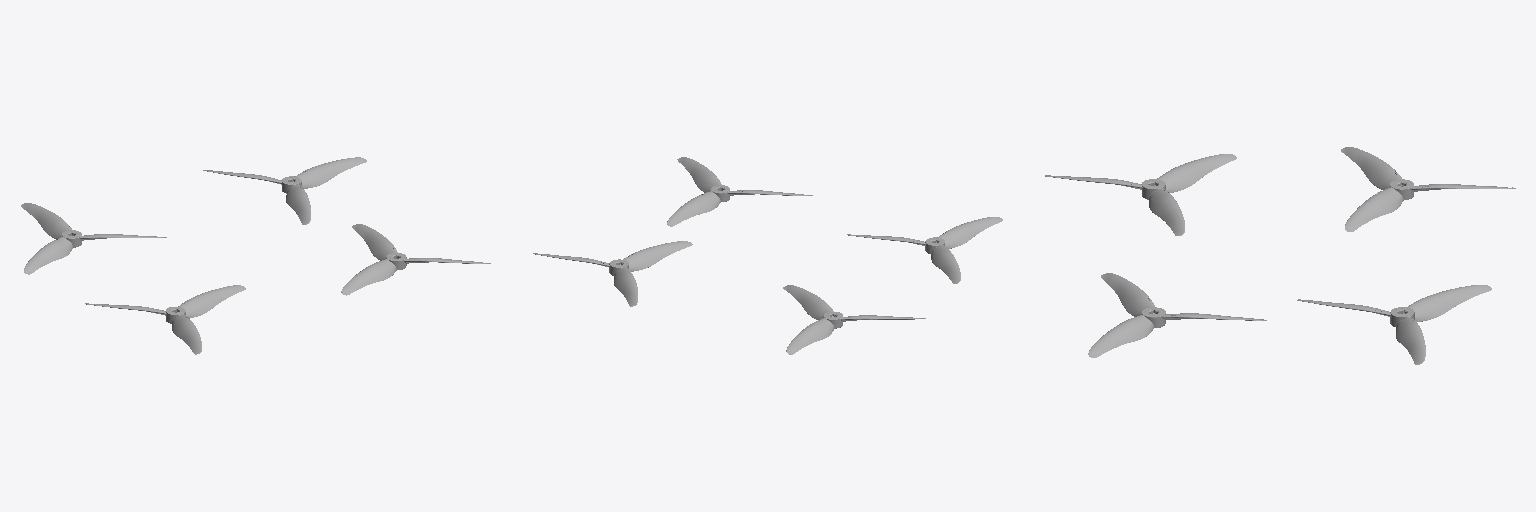
The robot description file, URDF, robot "Drone_assembly":
<?xml version="1.0" ?>
<!-- =================================================================================== -->
<!-- |    Fixed URDF for Isaac Sim / IsaacLab compatibility                             | -->
<!-- |    Changes: package:// paths -> relative, hyphens -> underscores,                | -->
<!-- |             spaces in names -> underscores                                       | -->
<!-- =================================================================================== -->
<robot name="Drone_assembly">
  <material name="silver">
    <color rgba="0.700 0.700 0.700 1.000"/>
  </material>
  <transmission name="Revolute_15_tran">
    <type>transmission_interface/SimpleTransmission</type>
    <joint name="Revolute_15">
      <hardwareInterface>hardware_interface/EffortJointInterface</hardwareInterface>
    </joint>
    <actuator name="Revolute_15_actr">
      <hardwareInterface>hardware_interface/EffortJointInterface</hardwareInterface>
      <mechanicalReduction>1</mechanicalReduction>
    </actuator>
  </transmission>
  <transmission name="Revolute_16_tran">
    <type>transmission_interface/SimpleTransmission</type>
    <joint name="Revolute_16">
      <hardwareInterface>hardware_interface/EffortJointInterface</hardwareInterface>
    </joint>
    <actuator name="Revolute_16_actr">
      <hardwareInterface>hardware_interface/EffortJointInterface</hardwareInterface>
      <mechanicalReduction>1</mechanicalReduction>
    </actuator>
  </transmission>
  <transmission name="Revolute_17_tran">
    <type>transmission_interface/SimpleTransmission</type>
    <joint name="Revolute_17">
      <hardwareInterface>hardware_interface/EffortJointInterface</hardwareInterface>
    </joint>
    <actuator name="Revolute_17_actr">
      <hardwareInterface>hardware_interface/EffortJointInterface</hardwareInterface>
      <mechanicalReduction>1</mechanicalReduction>
    </actuator>
  </transmission>
  <transmission name="Revolute_18_tran">
    <type>transmission_interface/SimpleTransmission</type>
    <joint name="Revolute_18">
      <hardwareInterface>hardware_interface/EffortJointInterface</hardwareInterface>
    </joint>
    <actuator name="Revolute_18_actr">
      <hardwareInterface>hardware_interface/EffortJointInterface</hardwareInterface>
      <mechanicalReduction>1</mechanicalReduction>
    </actuator>
  </transmission>
  <gazebo>
    <plugin filename="libgazebo_ros_control.so" name="control"/>
  </gazebo>
  <gazebo reference="base_link">
    <material>Gazebo/Silver</material>
    <mu1>0.2</mu1>
    <mu2>0.2</mu2>
    <selfCollide>true</selfCollide>
    <gravity>true</gravity>
  </gazebo>
  <gazebo reference="FL_5_inch_CW_prop_1_1_1">
    <material>Gazebo/Silver</material>
    <mu1>0.2</mu1>
    <mu2>0.2</mu2>
    <selfCollide>true</selfCollide>
  </gazebo>
  <gazebo reference="FR_5_inch_CCW_prop_1_1_1">
    <material>Gazebo/Silver</material>
    <mu1>0.2</mu1>
    <mu2>0.2</mu2>
    <selfCollide>true</selfCollide>
  </gazebo>
  <gazebo reference="BL_5_inch_CCW_prop_1_1_1">
    <material>Gazebo/Silver</material>
    <mu1>0.2</mu1>
    <mu2>0.2</mu2>
    <selfCollide>true</selfCollide>
  </gazebo>
  <gazebo reference="BR_5_inch_CW_prop_1_1_1">
    <material>Gazebo/Silver</material>
    <mu1>0.2</mu1>
    <mu2>0.2</mu2>
    <selfCollide>true</selfCollide>
  </gazebo>
  <link name="base_link">
    <inertial>
      <origin rpy="0 0 0" xyz="0.009238554223594299 0.0031720304092431296 0.024879380984984652"/>
      <mass value="0.4418038695669927"/>
      <inertia ixx="0.001021" ixy="3e-06" ixz="-0.000104" iyy="0.001544" iyz="-1e-05" izz="0.001377"/>
    </inertial>
    <visual>
      <origin rpy="0 0 0" xyz="0 0 0"/>
      <geometry>
        <mesh filename="meshes/base_link.stl" scale="0.001 0.001 0.001"/>
      </geometry>
      <material name="silver"/>
    </visual>
    <collision>
      <origin rpy="0 0 0" xyz="0 0 0"/>
      <geometry>
        <mesh filename="meshes/base_link.stl" scale="0.001 0.001 0.001"/>
      </geometry>
    </collision>
  </link>
  <link name="FL_5_inch_CW_prop_1_1_1">
    <inertial>
      <origin rpy="0 0 0" xyz="-4.954987216920781e-07 1.1728228729718237e-06 0.0049229474950758245"/>
      <mass value="0.0034727457217575432"/>
      <inertia ixx="1e-06" ixy="-0.0" ixz="0.0" iyy="1e-06" iyz="-0.0" izz="2e-06"/>
    </inertial>
    <visual>
      <origin rpy="0 0 0" xyz="-0.088628 0.068017 -0.040514"/>
      <geometry>
        <mesh filename="meshes/FL_5_inch_CW_prop_1_1_1.stl" scale="0.001 0.001 0.001"/>
      </geometry>
      <material name="silver"/>
    </visual>
    <collision>
      <origin rpy="0 0 0" xyz="-0.088628 0.068017 -0.040514"/>
      <geometry>
        <mesh filename="meshes/FL_5_inch_CW_prop_1_1_1.stl" scale="0.001 0.001 0.001"/>
      </geometry>
    </collision>
  </link>
  <link name="FR_5_inch_CCW_prop_1_1_1">
    <inertial>
      <origin rpy="0 0 0" xyz="2.1208467563677003e-06 -1.0094753889744457e-07 0.00492294826402425"/>
      <mass value="0.00347275205285292"/>
      <inertia ixx="1e-06" ixy="-0.0" ixz="-0.0" iyy="1e-06" iyz="0.0" izz="2e-06"/>
    </inertial>
    <visual>
      <origin rpy="0 0 0" xyz="-0.088431 -0.072039 -0.040514"/>
      <geometry>
        <mesh filename="meshes/FR_5_inch_CCW_prop_1_1_1.stl" scale="0.001 0.001 0.001"/>
      </geometry>
      <material name="silver"/>
    </visual>
    <collision>
      <origin rpy="0 0 0" xyz="-0.088431 -0.072039 -0.040514"/>
      <geometry>
        <mesh filename="meshes/FR_5_inch_CCW_prop_1_1_1.stl" scale="0.001 0.001 0.001"/>
      </geometry>
    </collision>
  </link>
  <link name="BL_5_inch_CCW_prop_1_1_1">
    <inertial>
      <origin rpy="0 0 0" xyz="1.6896728732007649e-06 -4.6309921052090086e-07 0.004922948264024916"/>
      <mass value="0.0034727520528517086"/>
      <inertia ixx="1e-06" ixy="-0.0" ixz="-0.0" iyy="1e-06" iyz="0.0" izz="2e-06"/>
    </inertial>
    <visual>
      <origin rpy="0 0 0" xyz="0.082176 0.068017 -0.040514"/>
      <geometry>
        <mesh filename="meshes/BL_5_inch_CCW_prop_1_1_1.stl" scale="0.001 0.001 0.001"/>
      </geometry>
      <material name="silver"/>
    </visual>
    <collision>
      <origin rpy="0 0 0" xyz="0.082176 0.068017 -0.040514"/>
      <geometry>
        <mesh filename="meshes/BL_5_inch_CCW_prop_1_1_1.stl" scale="0.001 0.001 0.001"/>
      </geometry>
    </collision>
  </link>
  <link name="BR_5_inch_CW_prop_1_1_1">
    <inertial>
      <origin rpy="0 0 0" xyz="5.7189728425166564e-08 1.2673309276733935e-06 0.004922947500933514"/>
      <mass value="0.0034727457075369107"/>
      <inertia ixx="1e-06" ixy="-0.0" ixz="0.0" iyy="1e-06" iyz="-0.0" izz="2e-06"/>
    </inertial>
    <visual>
      <origin rpy="0 0 0" xyz="0.081841 -0.071798 -0.040514"/>
      <geometry>
        <mesh filename="meshes/BR_5_inch_CW_prop_1_1_1.stl" scale="0.001 0.001 0.001"/>
      </geometry>
      <material name="silver"/>
    </visual>
    <collision>
      <origin rpy="0 0 0" xyz="0.081841 -0.071798 -0.040514"/>
      <geometry>
        <mesh filename="meshes/BR_5_inch_CW_prop_1_1_1.stl" scale="0.001 0.001 0.001"/>
      </geometry>
    </collision>
  </link>
  <joint name="Revolute_15" type="continuous">
    <origin rpy="0 0 0" xyz="0.088628 -0.068017 0.040514"/>
    <parent link="base_link"/>
    <child link="FL_5_inch_CW_prop_1_1_1"/>
    <axis xyz="0.0 -0.0 1.0"/>
  </joint>
  <joint name="Revolute_16" type="continuous">
    <origin rpy="0 0 0" xyz="0.088431 0.072039 0.040514"/>
    <parent link="base_link"/>
    <child link="FR_5_inch_CCW_prop_1_1_1"/>
    <axis xyz="0.0 0.0 1.0"/>
  </joint>
  <joint name="Revolute_17" type="continuous">
    <origin rpy="0 0 0" xyz="-0.082176 -0.068017 0.040514"/>
    <parent link="base_link"/>
    <child link="BL_5_inch_CCW_prop_1_1_1"/>
    <axis xyz="0.0 0.0 1.0"/>
  </joint>
  <joint name="Revolute_18" type="continuous">
    <origin rpy="0 0 0" xyz="-0.081841 0.071798 0.040514"/>
    <parent link="base_link"/>
    <child link="BR_5_inch_CW_prop_1_1_1"/>
    <axis xyz="0.0 -0.0 1.0"/>
  </joint>
</robot>

--- Render facts (derived) ---
3 views of the same robot in one strip: view 1: azimuth 30°, elevation 25°; view 2: azimuth 150°, elevation 25°; view 3: azimuth 270°, elevation 25° (orthographic).
Robot: Drone_assembly — 5 links, 4 joints (4 continuous); root link base_link; default pose: all joints at 0.
Visible links, largest first — view 1: FL_5_inch_CW_prop_1_1_1, BR_5_inch_CW_prop_1_1_1, BL_5_inch_CCW_prop_1_1_1, FR_5_inch_CCW_prop_1_1_1; view 2: BR_5_inch_CW_prop_1_1_1, FL_5_inch_CW_prop_1_1_1, BL_5_inch_CCW_prop_1_1_1, FR_5_inch_CCW_prop_1_1_1; view 3: FL_5_inch_CW_prop_1_1_1, BR_5_inch_CW_prop_1_1_1, BL_5_inch_CCW_prop_1_1_1, FR_5_inch_CCW_prop_1_1_1.
Link boxes in pixels (x1,y1,x2,y2): FL_5_inch_CW_prop_1_1_1: (341,224,490,295); BR_5_inch_CW_prop_1_1_1: (21,203,166,274); BL_5_inch_CCW_prop_1_1_1: (85,285,245,354); FR_5_inch_CCW_prop_1_1_1: (203,157,366,224); BR_5_inch_CW_prop_1_1_1: (783,285,925,354); FL_5_inch_CW_prop_1_1_1: (667,157,812,226); BL_5_inch_CCW_prop_1_1_1: (847,217,1002,283); FR_5_inch_CCW_prop_1_1_1: (533,241,692,306); FL_5_inch_CW_prop_1_1_1: (1088,273,1266,357); BR_5_inch_CW_prop_1_1_1: (1341,147,1515,231); BL_5_inch_CCW_prop_1_1_1: (1045,154,1236,235); FR_5_inch_CCW_prop_1_1_1: (1297,285,1491,364).
Size in the robot's own frame: 0.2886 by 0.2653 by 0.0082 metres.
Meshes: 5 distinct files referenced, 4 mesh visuals loaded (4 binary STL); not drawn: 1 (reference not matched to a file when rendering).
